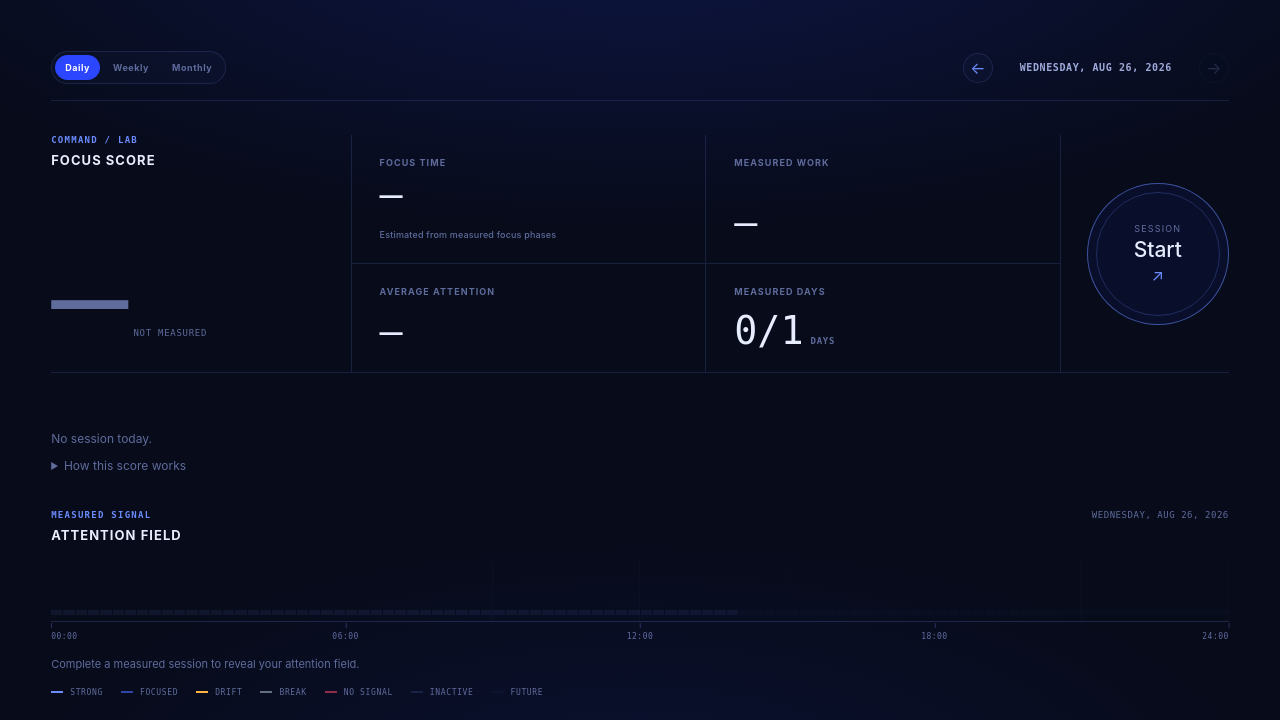
Scenario: LabDashboard metric labels › loads a real score and attention signal from a previous month
The image size is (1280, 720).
Click the button "Monthly": [192, 68] box [162, 55, 222, 80]
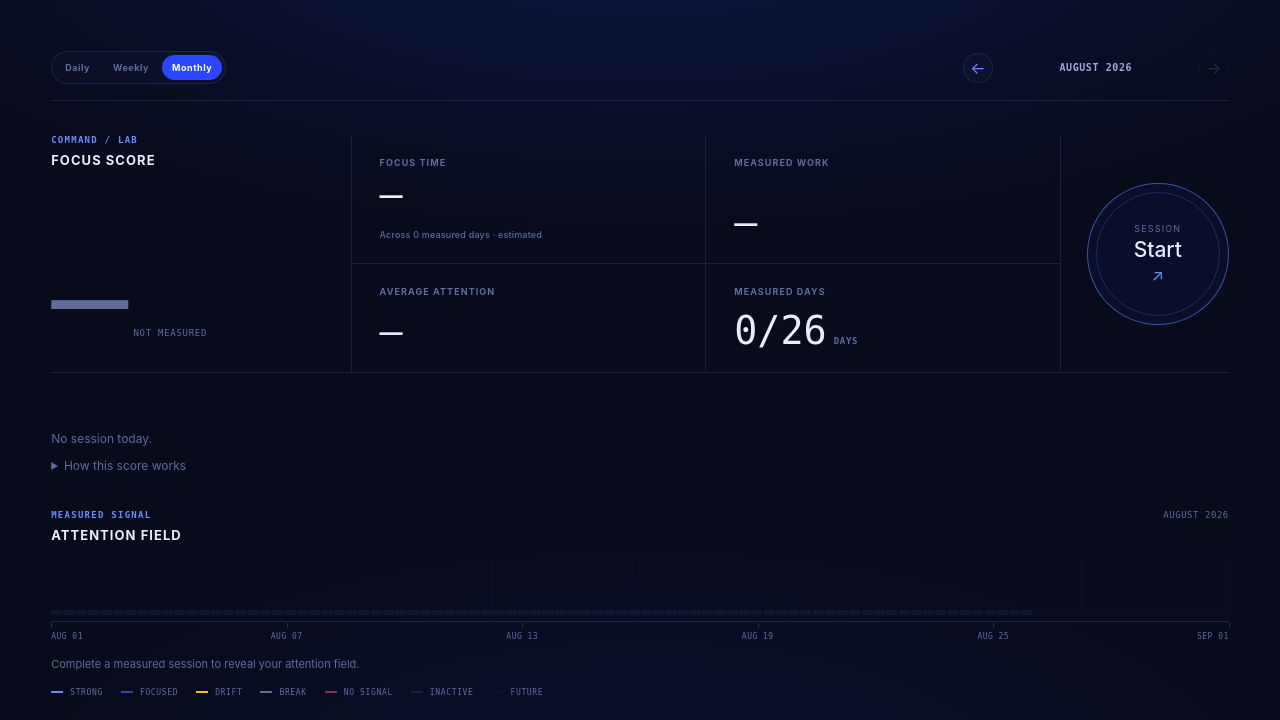
Click the button named "Show previous month": [978, 68] box [963, 53, 993, 83]
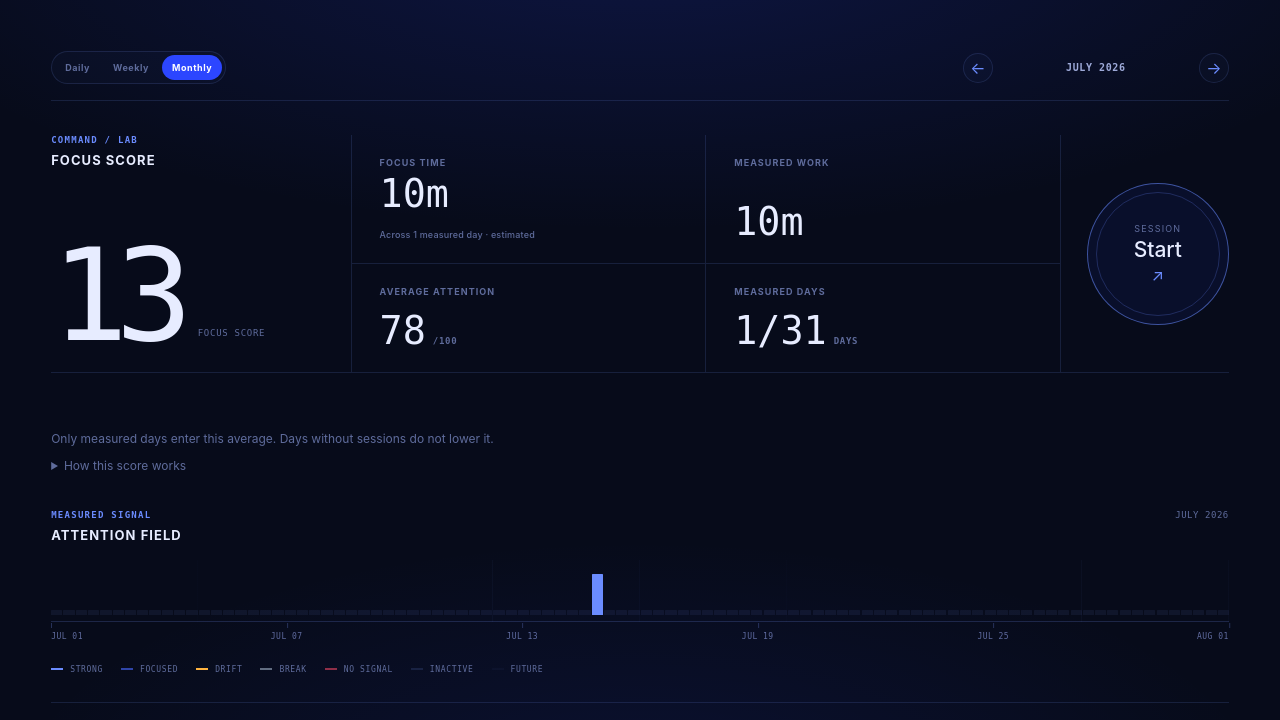
expect the picture named "Attention field for July 2026" is shown: met, box [51, 560, 1229, 622]
expect the text "13" no longer shows "—": met, box [51, 250, 180, 342]
